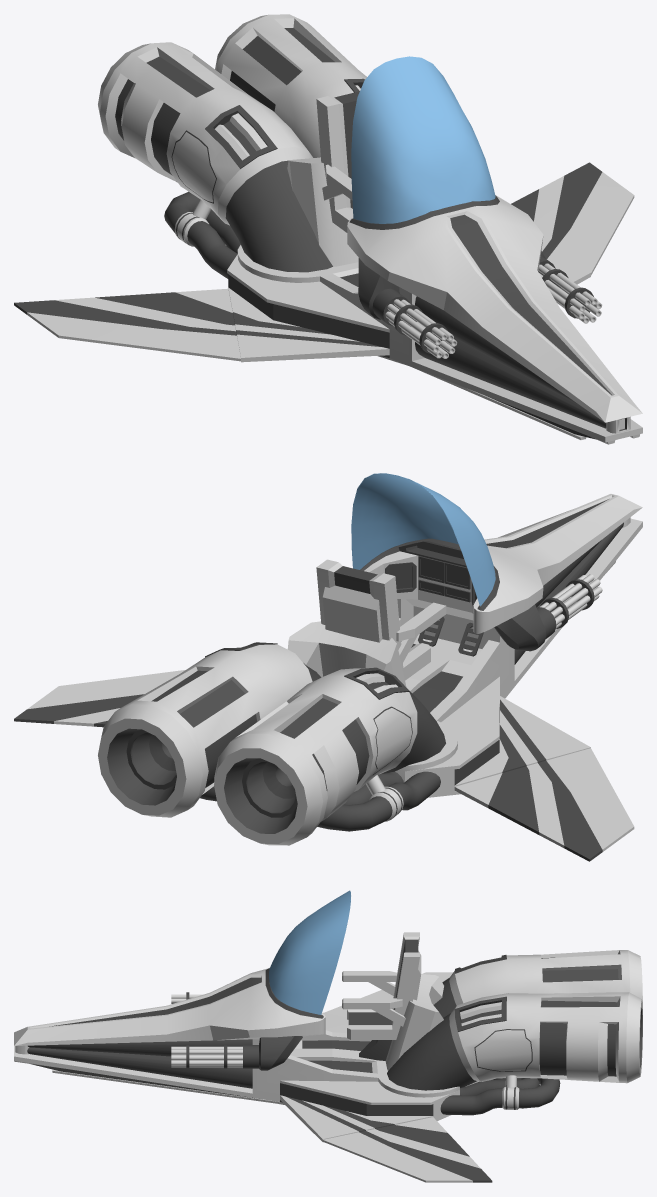
3 renders of one model, top to bottom at view 1: azimuth 30°, elevation 25°; view 2: azimuth 150°, elevation 25°; view 3: azimuth 270°, elevation 25°, orthographic. The views are drawn at different scales.
Visible parts, largest first — view 1: SB-1Body, RightWing2, LeftWing2, RightWing, MiniGunR, AirbrakeR, MiniGunL; view 2: SB-1Body, RightWing2, LeftWing2, RightWing, MiniGunR, AirbrakeR; view 3: SB-1Body, LeftWing2, LeftWing, AirbrakeL, MiniGunL, RightWing2.
Boxes of the visible parts, bbox=[...] form: SB-1Body: bbox=[98, 14, 642, 444]; RightWing2: bbox=[14, 288, 240, 361]; LeftWing2: bbox=[511, 162, 634, 275]; RightWing: bbox=[228, 287, 389, 362]; MiniGunR: bbox=[372, 288, 457, 358]; AirbrakeR: bbox=[171, 130, 216, 203]; MiniGunL: bbox=[538, 255, 602, 323]; SB-1Body: bbox=[98, 473, 642, 845]; RightWing2: bbox=[454, 748, 634, 861]; LeftWing2: bbox=[14, 670, 185, 727]; RightWing: bbox=[454, 696, 590, 791]; MiniGunR: bbox=[537, 574, 602, 638]; AirbrakeR: bbox=[373, 706, 412, 774]; SB-1Body: bbox=[14, 890, 642, 1121]; LeftWing2: bbox=[322, 1117, 492, 1182]; LeftWing: bbox=[280, 1095, 433, 1142]; AirbrakeL: bbox=[474, 1029, 532, 1071]; MiniGunL: bbox=[171, 1045, 258, 1068]; RightWing2: bbox=[324, 972, 452, 1016].
Size of the model in its own units: 3.3 by 1.46 by 4.21.
